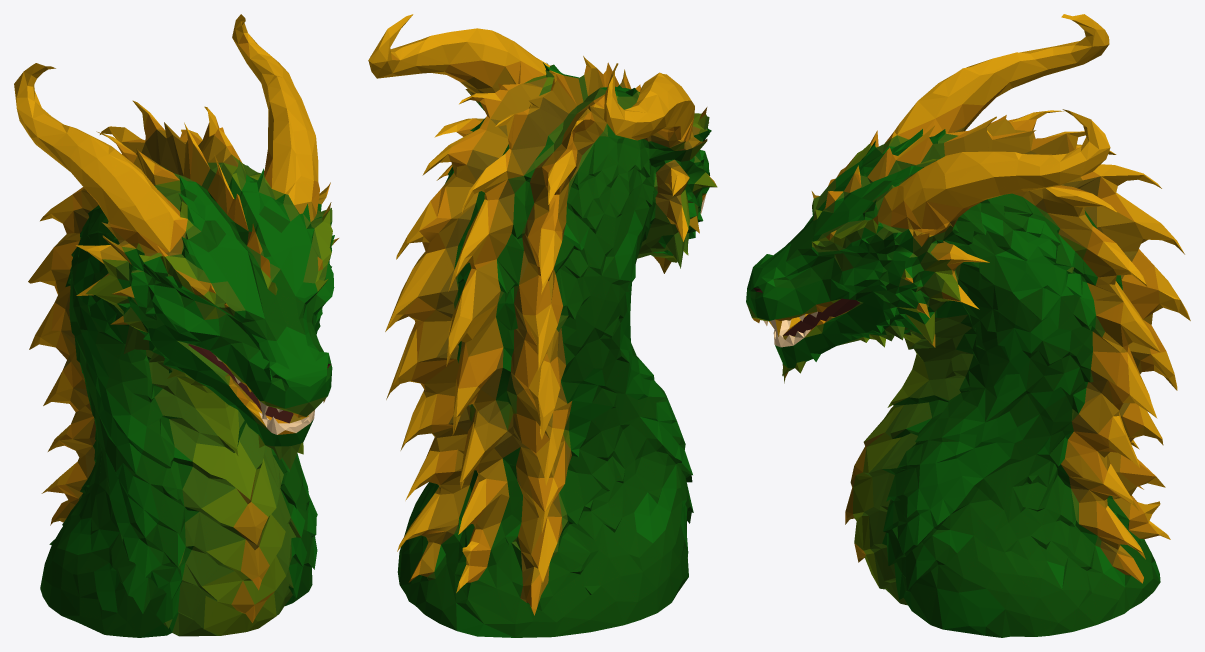
The model's file is preview.glb.
The picture shows the model from 3 angles, left to right: view 1: azimuth 30°, elevation 25°; view 2: azimuth 150°, elevation 25°; view 3: azimuth 270°, elevation 25°; orthographic projection. The views are drawn at different scales.
Parts seen in each view (by area): view 1: low-poly-dragon-head; view 2: low-poly-dragon-head; view 3: low-poly-dragon-head.
Part boxes in pixels (x1,y1,x2,y2): low-poly-dragon-head: (14,14,338,637); low-poly-dragon-head: (368,14,717,637); low-poly-dragon-head: (746,14,1190,637).
Bounding box in the file's own units: 0.4574 × 0.9014 × 0.6986.
1 material, 1 textured.
